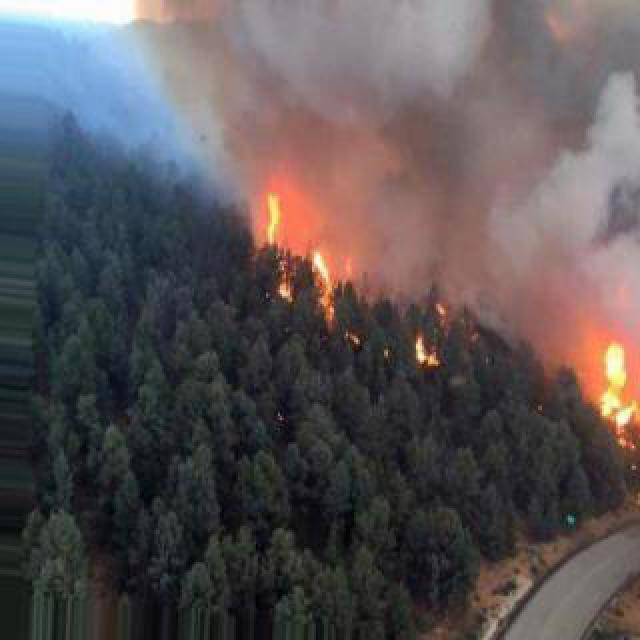Fire: (262, 186, 346, 324), (596, 340, 634, 436), (394, 328, 458, 376)
